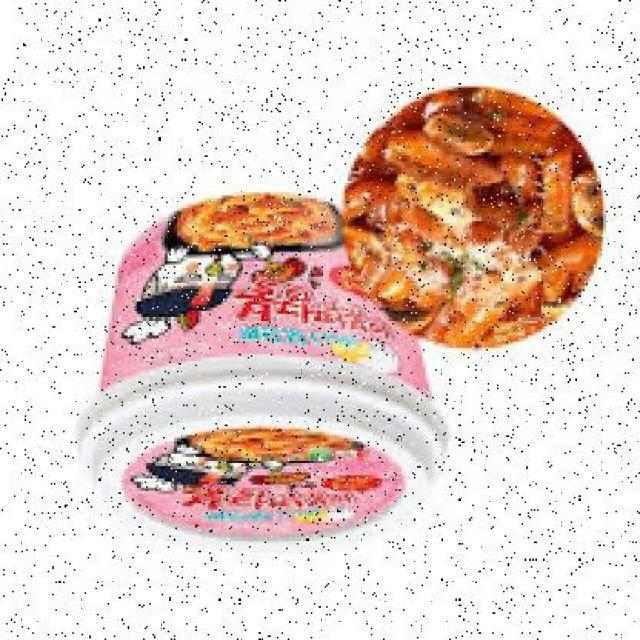Miscellaneous: (74, 188, 453, 554)
